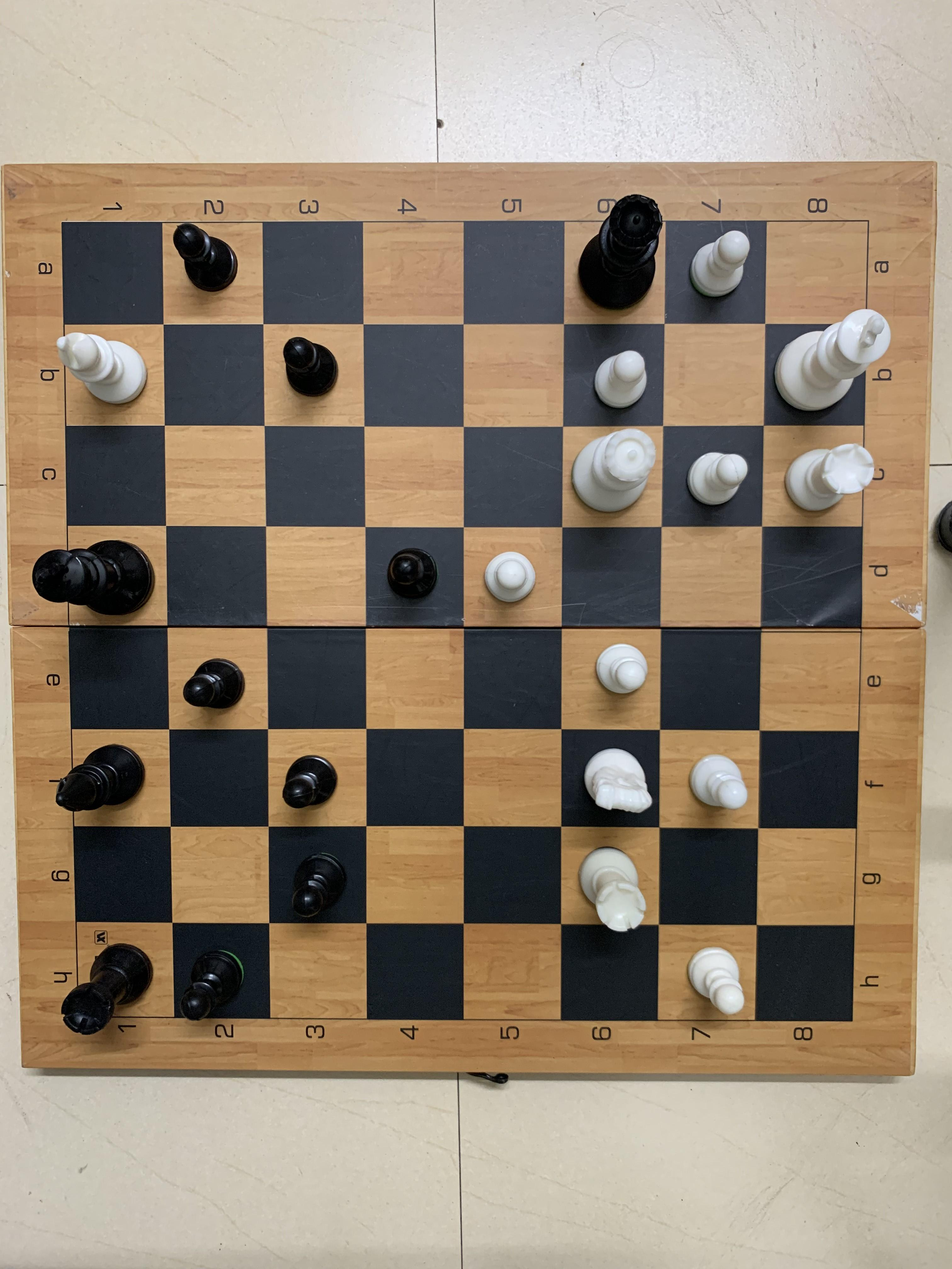black_bishop: (43, 726, 162, 827)
black_king: (25, 524, 164, 624)
black_pawn: (161, 215, 260, 310), (170, 932, 266, 1028), (269, 329, 363, 417), (170, 638, 261, 728), (271, 834, 362, 924), (365, 531, 455, 621), (271, 738, 361, 822)
black_queen: (575, 191, 668, 310)
black_rook: (46, 927, 172, 1047)
white_bishop: (52, 321, 166, 422)
white_king: (771, 304, 901, 425)
white_knight: (568, 738, 658, 833)
white_pawn: (677, 430, 756, 523), (573, 631, 657, 718), (575, 339, 658, 425), (678, 222, 760, 305), (675, 933, 751, 1022), (475, 535, 553, 620), (682, 745, 756, 823)
white_queen: (570, 420, 660, 517)
white_rook: (567, 839, 659, 945), (779, 430, 883, 523)
